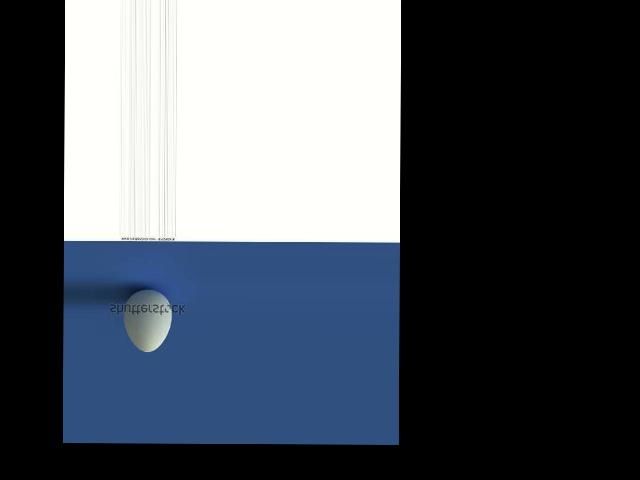egg: (123, 288, 172, 351)
